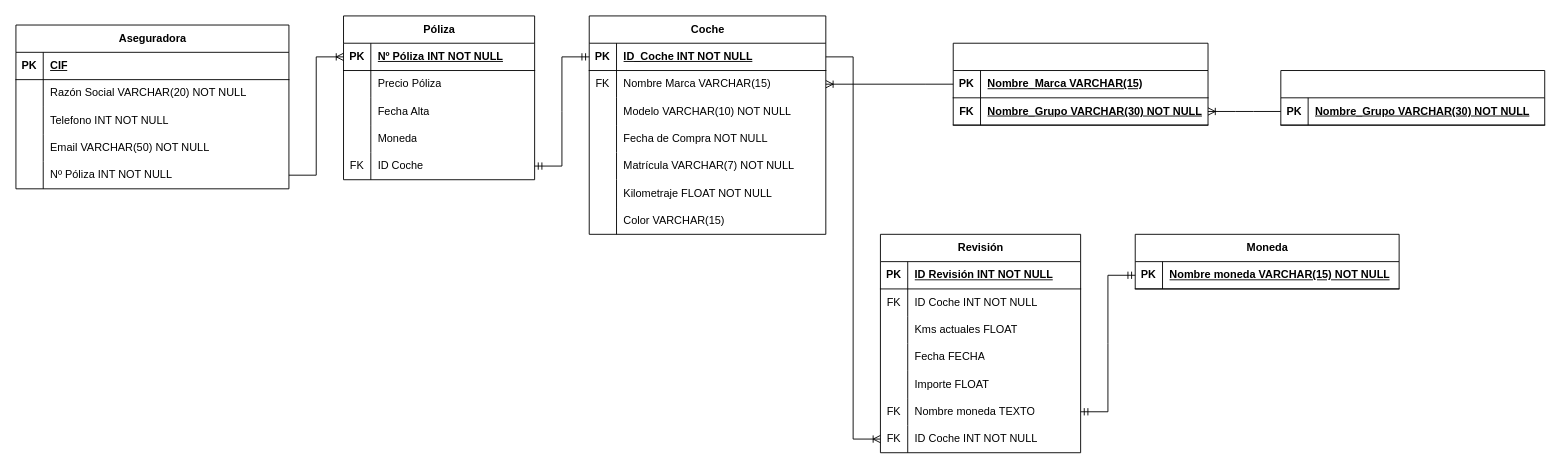
Some shapes in this 1561 by 469 pixel diagram are drawn without their labels. Each missing label, with the box of its shape:
Grupo Empresarial: (1280, 70, 1545, 125)
Marcas: (952, 42, 1208, 125)
